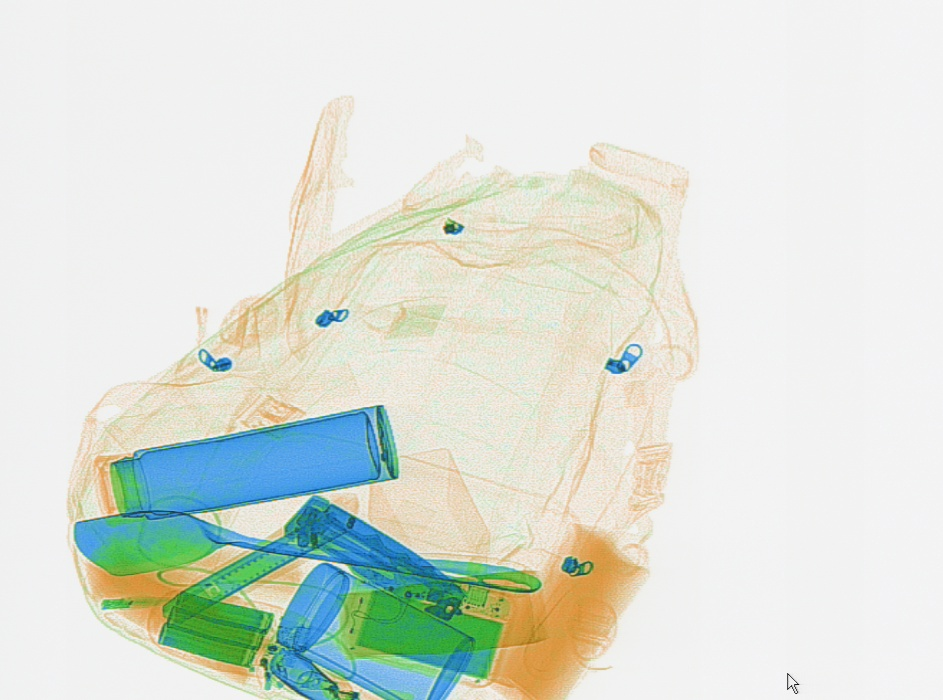knife: (160, 494, 360, 622), (284, 494, 465, 618)
powerbank: (339, 569, 516, 686), (147, 587, 295, 673)
